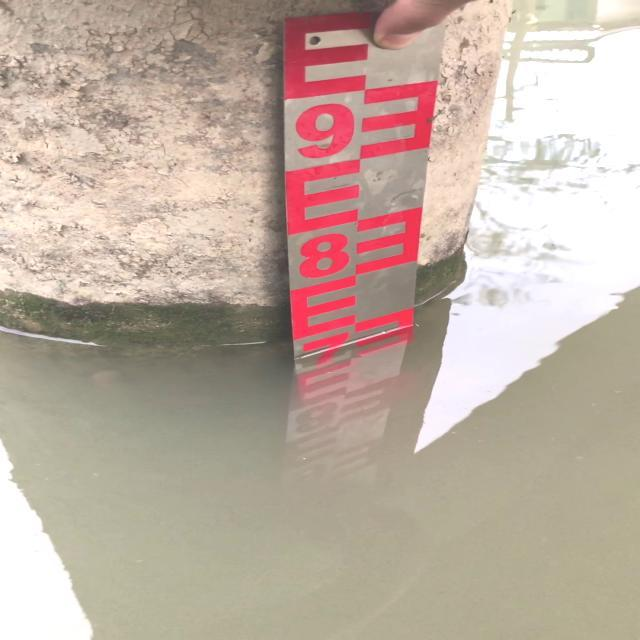ruler: (261, 0, 468, 373)
value: (277, 88, 364, 172), (287, 227, 358, 286)
